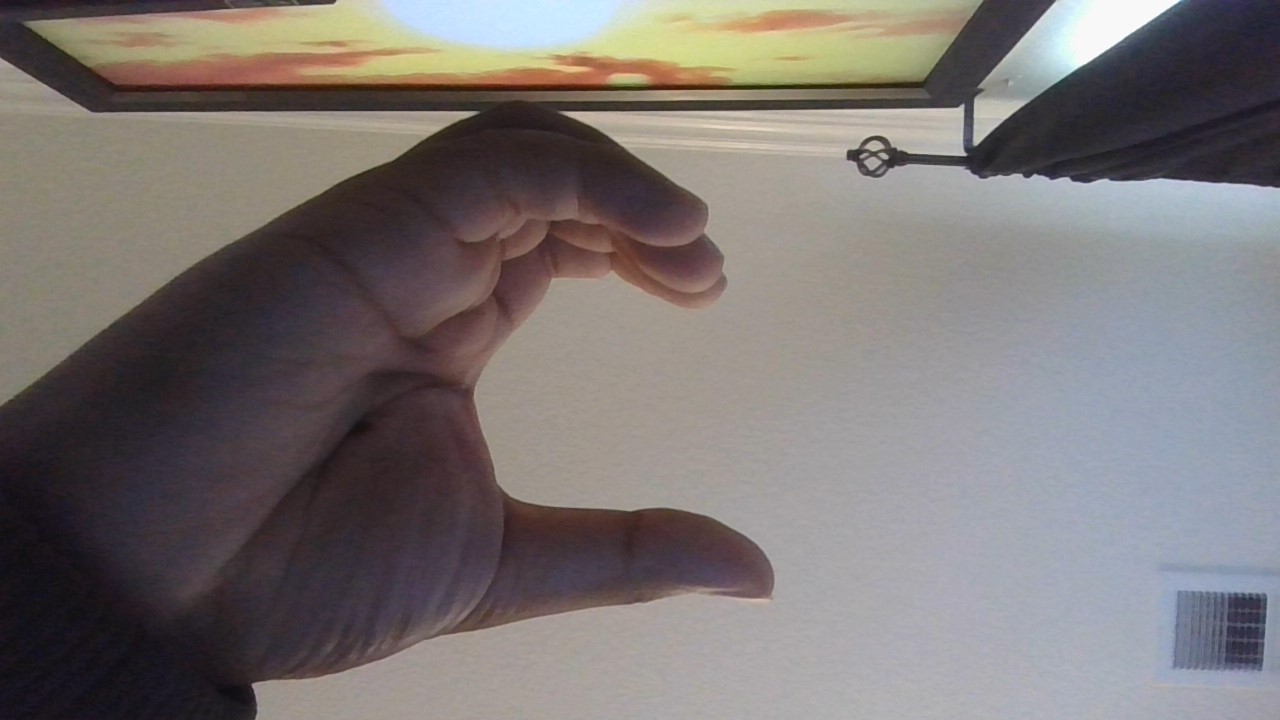c: (3, 63, 818, 680)
